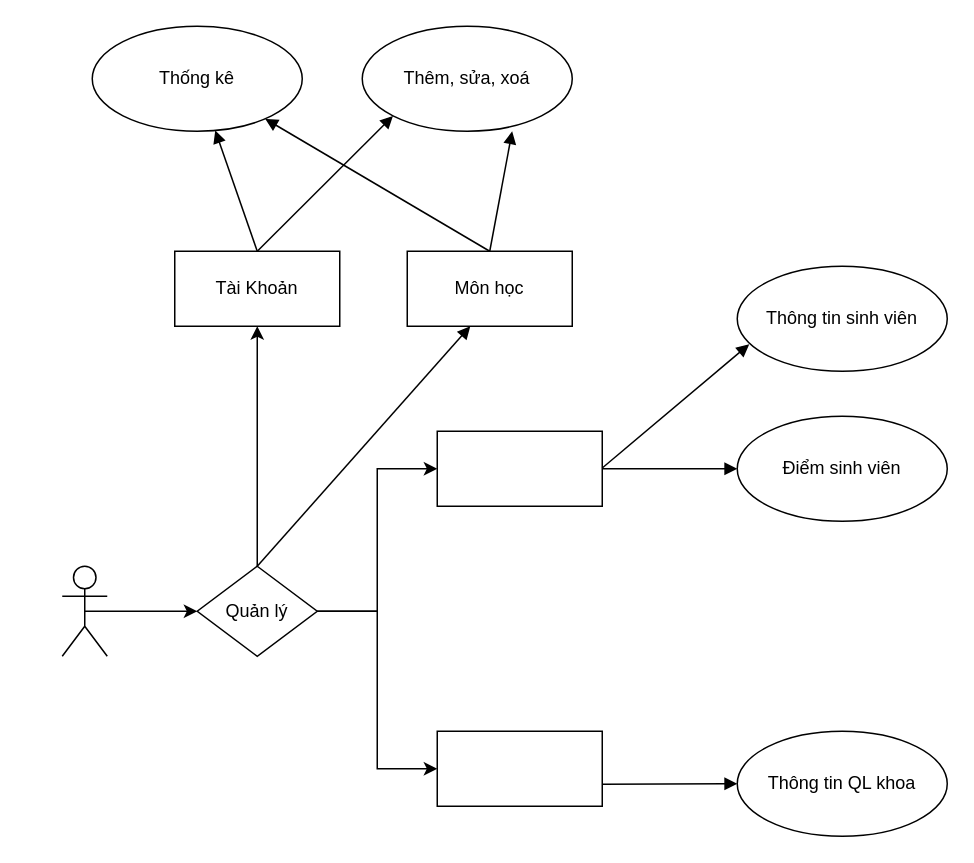
This 974x863 diagram has some shape labels left out. The centre of each missing label's shape, as x and y in pixels:
"Phòng đào tạo" goes at (84,610).
"QL khoa" goes at (519,768).
"Sinh viên" goes at (519,468).
